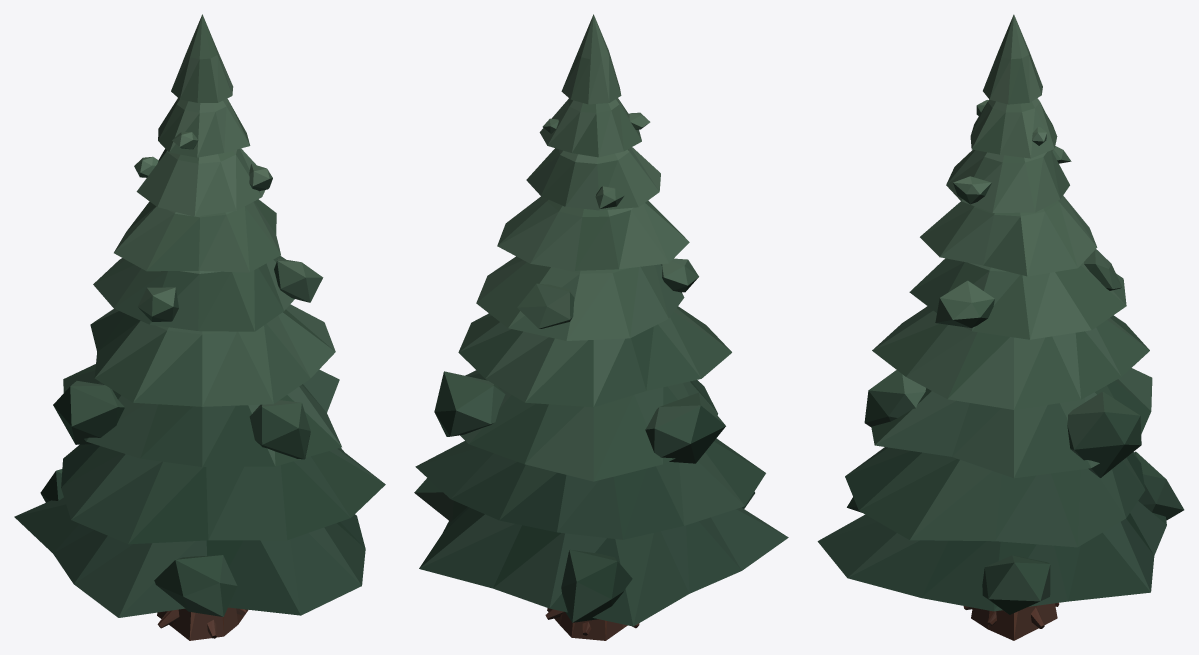
The model's file is conifer-spire.glb.
3 views of the same model, side by side, from view 1: azimuth 30°, elevation 25°; view 2: azimuth 150°, elevation 25°; view 3: azimuth 270°, elevation 25° (orthographic).
Visible parts, largest first — view 1: canopy, trunk; view 2: canopy, trunk; view 3: canopy, trunk.
Part boxes in pixels (<box>): canopy: <box>14,14,385,617</box>; trunk: <box>157,607,248,640</box>; canopy: <box>414,14,788,626</box>; trunk: <box>545,608,639,640</box>; canopy: <box>817,14,1184,614</box>; trunk: <box>963,603,1059,640</box>.
Bounding box in the file's own units: 3.95 × 7.45 × 4.1.
